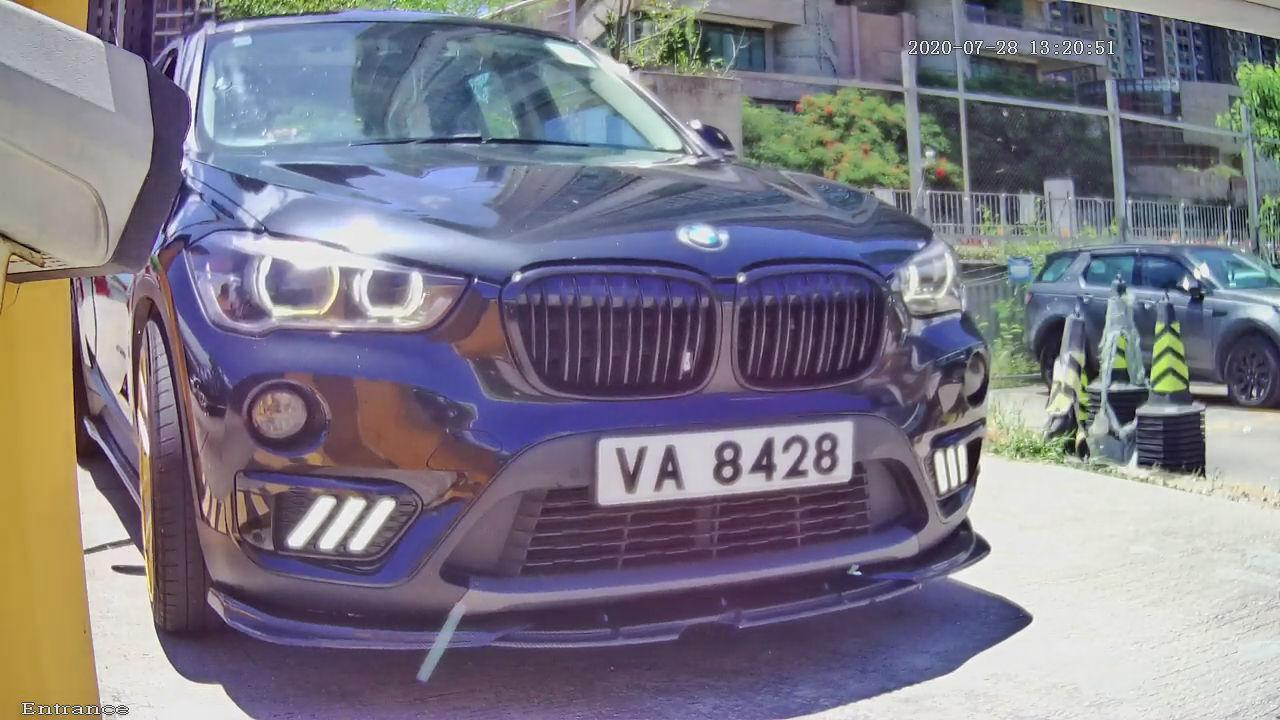privatecar: (52, 10, 1132, 711)
